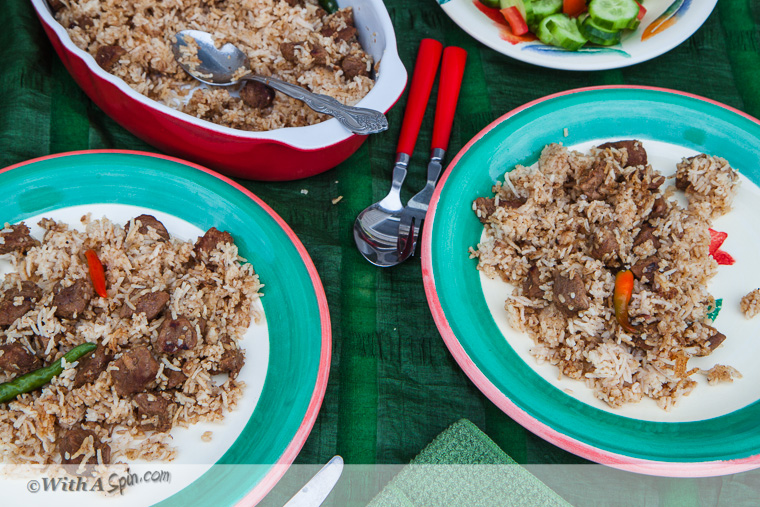tehari: (472, 124, 755, 420), (4, 207, 279, 464)
